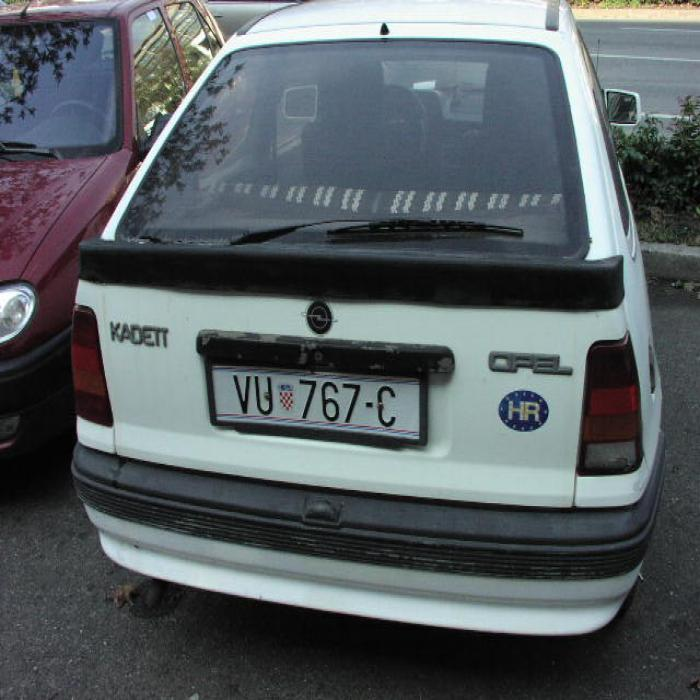number_plate: (212, 366, 419, 435)
